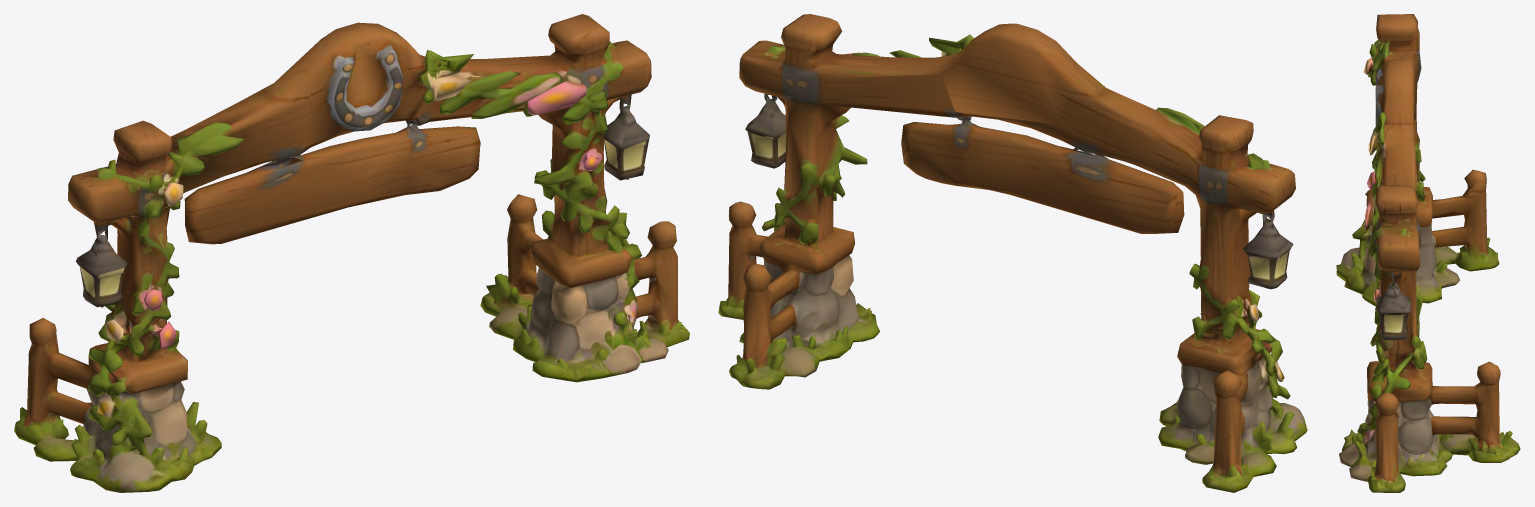
The picture shows the model from 3 angles, left to right: view 1: azimuth 30°, elevation 25°; view 2: azimuth 150°, elevation 25°; view 3: azimuth 270°, elevation 25°; orthographic projection. The views are drawn at different scales.
Visible parts, largest first — view 1: tripo_node_4e6409ff-ac25-42b8-9f06-a29231c8e3a8; view 2: tripo_node_4e6409ff-ac25-42b8-9f06-a29231c8e3a8; view 3: tripo_node_4e6409ff-ac25-42b8-9f06-a29231c8e3a8.
Part boxes in pixels (x1,y1,x2,y2): tripo_node_4e6409ff-ac25-42b8-9f06-a29231c8e3a8: (14,14,689,492); tripo_node_4e6409ff-ac25-42b8-9f06-a29231c8e3a8: (718,14,1307,492); tripo_node_4e6409ff-ac25-42b8-9f06-a29231c8e3a8: (1336,14,1520,492).
Bounding box in the file's own units: 6.83 × 4 × 2.2.
1 material, 1 textured.
